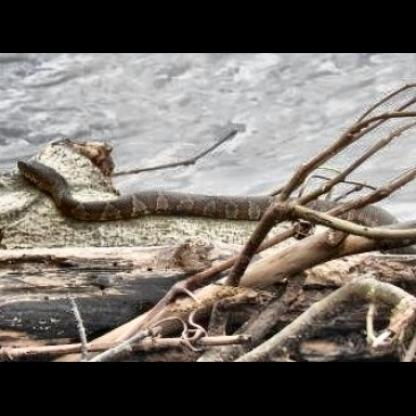Snake: (11, 155, 412, 255)
